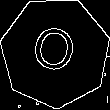O_S: (30, 24, 81, 82)
